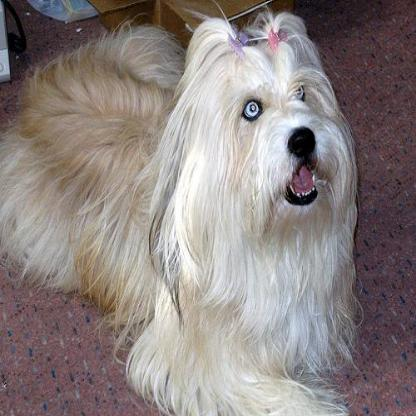briard: (0, 11, 357, 412)
